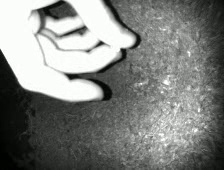corn: (107, 42, 121, 54)
